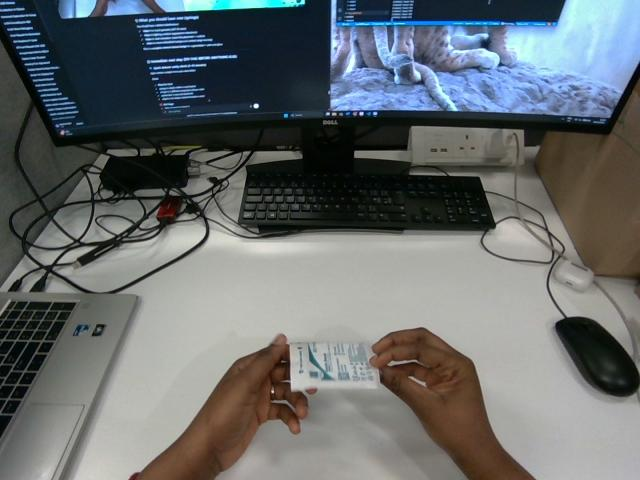gauze: (289, 342, 379, 390)
